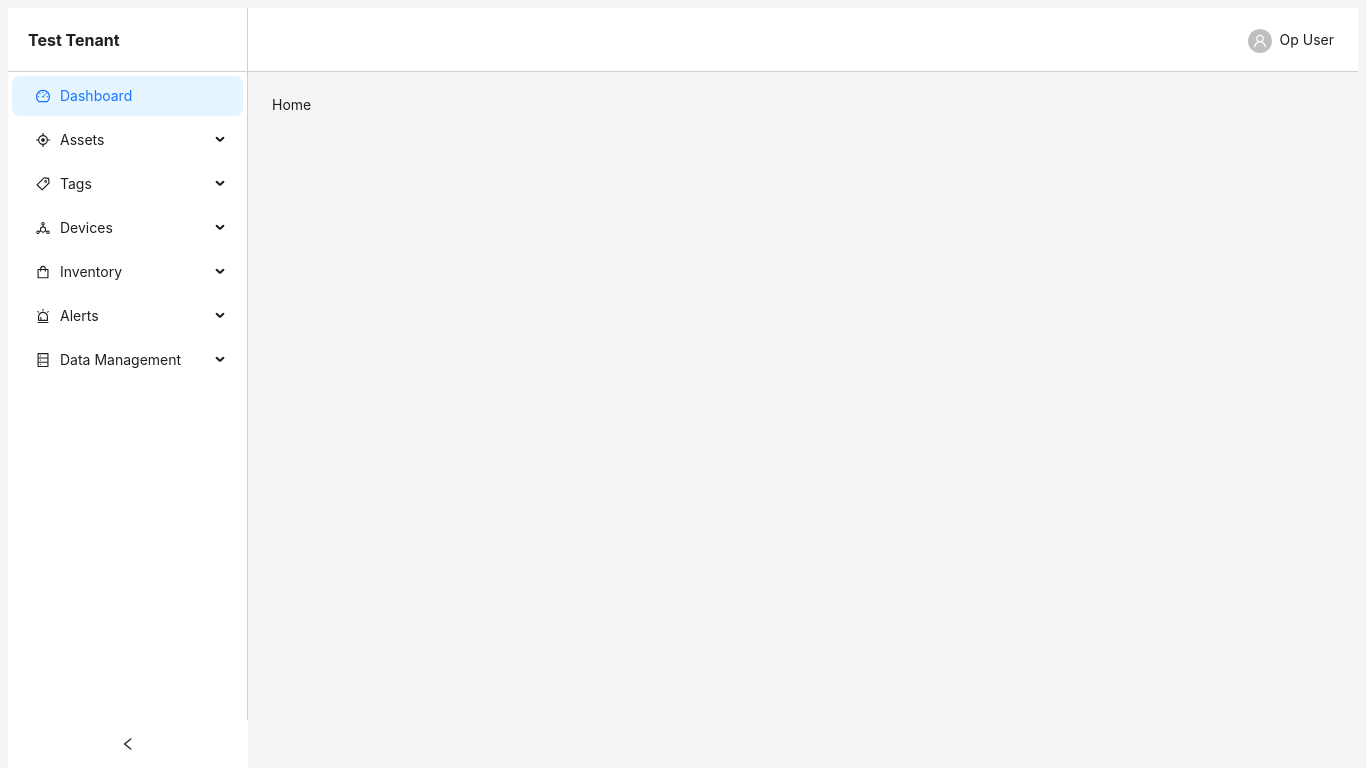
Test: Layout — entity-first sectioned sider (Sprint 61) › opens a section on click and reveals its child items
What coordinates should you click on to do the following:
click the menu item "Tags"
I would click on:
 (64, 184)
Its box is [36, 175, 92, 192].
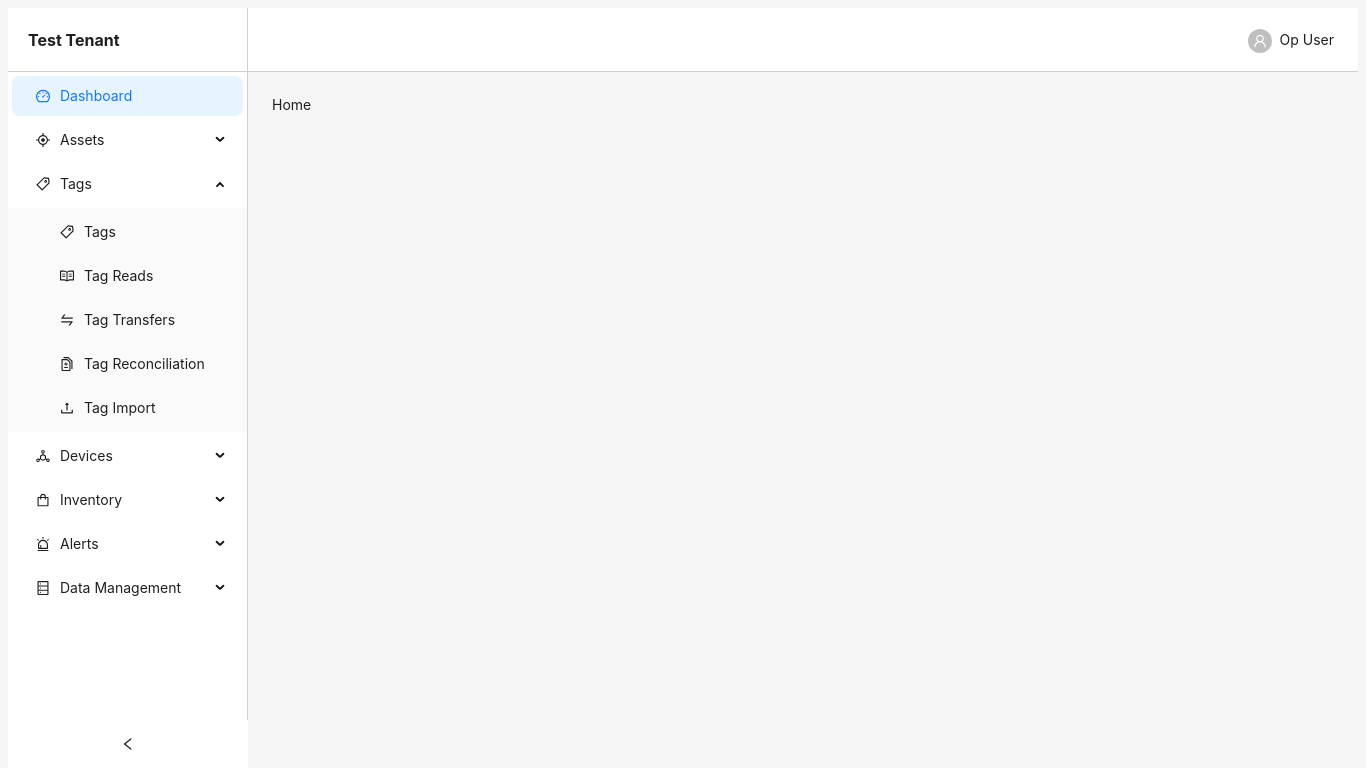
Expected: the text "Tag Reads" is shown, [84, 267, 153, 284]
Expected: the text "Tag Transfers" is shown, [84, 311, 175, 328]
Expected: the text "Tag Reconciliation" is shown, [84, 355, 205, 372]
